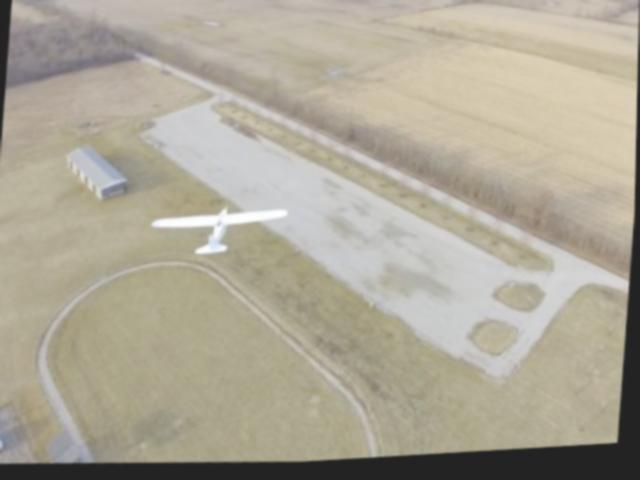uav: (143, 194, 296, 275)
